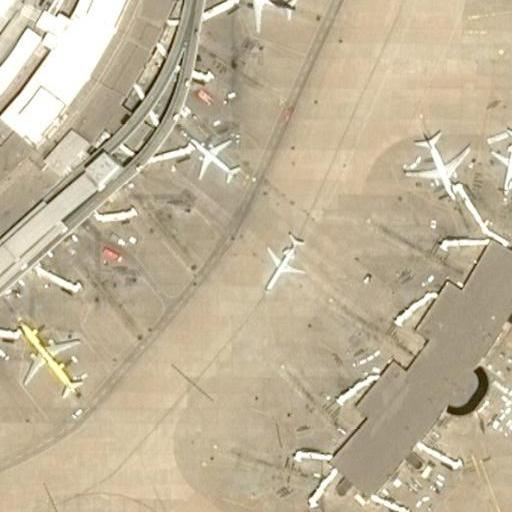Aircraft: (15, 321, 87, 404), (411, 127, 474, 196), (180, 127, 244, 184), (261, 230, 303, 296), (233, 0, 299, 30)
